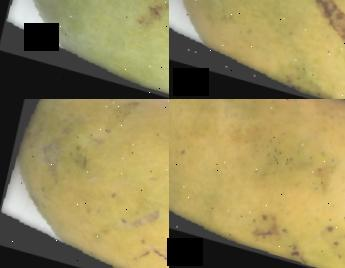PartiallyRipe: (169, 99, 345, 268), (0, 99, 169, 268), (169, 0, 345, 99)
Unripe: (0, 0, 169, 99)
